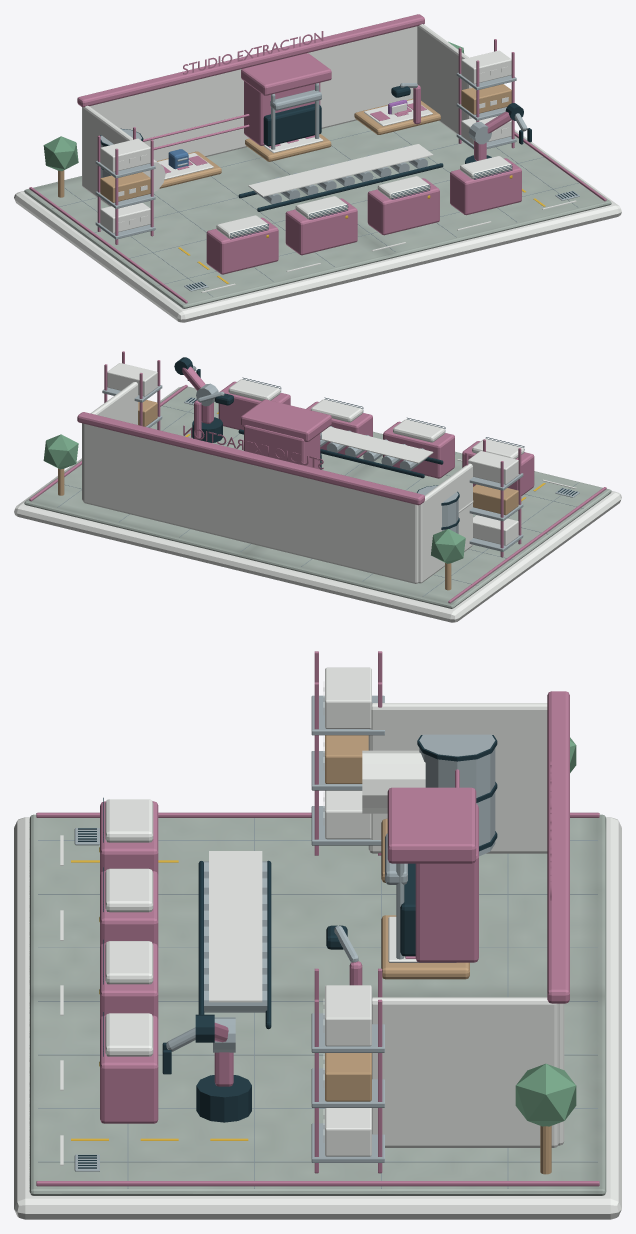
File: studio.glb
3 views of the same model, one above another, from view 1: azimuth 30°, elevation 25°; view 2: azimuth 150°, elevation 25°; view 3: azimuth 270°, elevation 25° (orthographic). The views are drawn at different scales.
Parts seen in each view (by area): view 1: StaticWorkshop_0, Activity ground, StaticWorkshop_1, StaticWorkshop_2, StaticWorkshop_5, StaticWorkshop_6, Document press, StaticWorkshop_3, StaticWorkshop_7, MachineSheetCutter; view 2: StaticWorkshop_0, Activity ground, StaticWorkshop_1, StaticWorkshop_5, StaticWorkshop_7, StaticWorkshop_2, StaticWorkshop_6, StaticWorkshop_3, Binding mounting; view 3: Activity ground, StaticWorkshop_0, StaticWorkshop_1, StaticWorkshop_5, StaticWorkshop_2, StaticWorkshop_3, StaticWorkshop_7, StaticWorkshop_6, Paper roll, Binding mounting, Document press, LivePaperRoller.008.
Part boxes in pixels (left/top/right/bottom): StaticWorkshop_0: left=14, top=24, right=621, bottom=322; Activity ground: left=24, top=120, right=611, bottom=308; StaticWorkshop_1: left=29, top=14, right=606, bottom=303; StaticWorkshop_2: left=58, top=84, right=511, bottom=202; StaticWorkshop_5: left=95, top=72, right=579, bottom=291; StaticWorkshop_6: left=100, top=128, right=577, bottom=289; Document press: left=263, top=103, right=321, bottom=146; StaticWorkshop_3: left=52, top=130, right=583, bottom=296; StaticWorkshop_7: left=43, top=41, right=464, bottom=171; MachineSheetCutter: left=270, top=89, right=321, bottom=110; StaticWorkshop_0: left=14, top=363, right=621, bottom=622; Activity ground: left=24, top=386, right=611, bottom=608; StaticWorkshop_1: left=29, top=351, right=606, bottom=603; StaticWorkshop_5: left=102, top=385, right=579, bottom=551; StaticWorkshop_7: left=43, top=434, right=465, bottom=563; StaticWorkshop_2: left=58, top=400, right=518, bottom=590; StaticWorkshop_6: left=186, top=377, right=577, bottom=529; StaticWorkshop_3: left=52, top=405, right=583, bottom=596; Binding mounting: left=192, top=417, right=222, bottom=442; Activity ground: left=29, top=814, right=606, bottom=1195; StaticWorkshop_0: left=14, top=667, right=621, bottom=1219; StaticWorkshop_1: left=36, top=651, right=599, bottom=1186; StaticWorkshop_5: left=74, top=695, right=495, bottom=1171; StaticWorkshop_2: left=325, top=735, right=551, bottom=1174; StaticWorkshop_3: left=38, top=818, right=597, bottom=1188; StaticWorkshop_7: left=515, top=737, right=576, bottom=1126; StaticWorkshop_6: left=78, top=735, right=497, bottom=1168; Paper roll: left=362, top=750, right=425, bottom=813; Binding mounting: left=196, top=1075, right=251, bottom=1122; Document press: left=400, top=863, right=415, bottom=956; LivePaperRoller.008: left=204, top=990, right=267, bottom=1012.
Size of the model in its own units: 7.3 by 1.86 by 4.8.
Materials: 16 (1 with a texture image).
